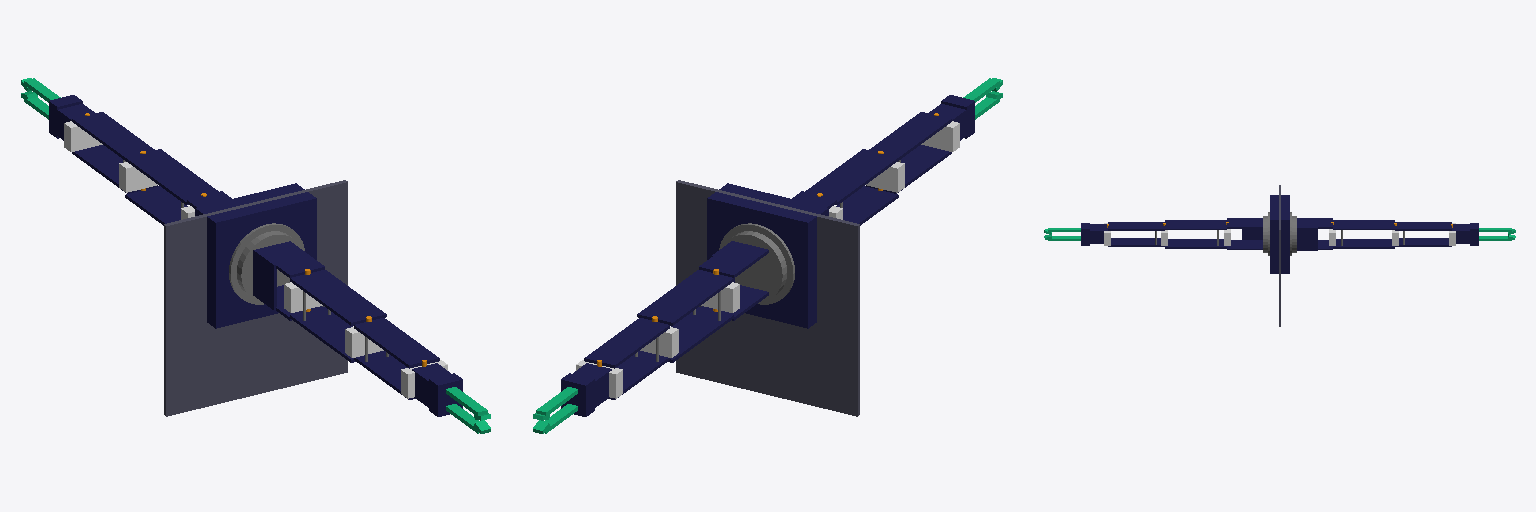
URDF robot description (adeept_5dof_wall):
<?xml version="1.0" ?>
<robot name="adeept_5dof_wall">

  <material name="darkblue"><color rgba="0.15 0.15 0.35 1.0"/></material>
  <material name="grey"><color rgba="0.5 0.5 0.5 1.0"/></material>
  <material name="orange"><color rgba="0.95 0.6 0.1 1.0"/></material>
  <material name="green"><color rgba="0.1 0.75 0.5 1.0"/></material>
  <material name="white"><color rgba="0.9 0.9 0.9 1.0"/></material>
  <material name="wall"><color rgba="0.35 0.35 0.42 1.0"/></material>

  <!-- WAND -->
  <link name="wall">
    <visual><geometry><box size="0.18 0.005 0.18"/></geometry>
      <origin xyz="0 0 0.10"/><material name="wall"/></visual>
  </link>

  <!-- ======== BASE ======== -->

  <link name="base_link_l">
    <visual><geometry><box size="0.100 0.100 0.015"/></geometry>
      <origin xyz="0 0 0.0075"/><material name="darkblue"/></visual>
    <visual><geometry><cylinder radius="0.037" length="0.003"/></geometry>
      <origin xyz="0 0 0.0165"/><material name="grey"/></visual>
    <collision><geometry><box size="0.100 0.100 0.018"/></geometry><origin xyz="0 0 0.009"/></collision>
    <inertial><mass value="0.3"/><origin xyz="0 0 0.009"/>
      <inertia ixx="0.001" ixy="0" ixz="0" iyy="0.001" iyz="0" izz="0.001"/></inertial>
  </link>
  <joint name="base_to_wall_l" type="fixed">
    <parent link="wall"/><child link="base_link_l"/>
    <origin xyz="0 0.0025 0.14" rpy="-1.5708 1.5708 0"/>
  </joint>

  <link name="base_link_r">
    <visual><geometry><box size="0.100 0.100 0.015"/></geometry>
      <origin xyz="0 0 0.0075"/><material name="darkblue"/></visual>
    <visual><geometry><cylinder radius="0.037" length="0.003"/></geometry>
      <origin xyz="0 0 0.0165"/><material name="grey"/></visual>
    <collision><geometry><box size="0.100 0.100 0.018"/></geometry><origin xyz="0 0 0.009"/></collision>
    <inertial><mass value="0.3"/><origin xyz="0 0 0.009"/>
      <inertia ixx="0.001" ixy="0" ixz="0" iyy="0.001" iyz="0" izz="0.001"/></inertial>
  </link>
  <joint name="base_to_wall_r" type="fixed">
    <parent link="wall"/><child link="base_link_r"/>
    <origin xyz="0 -0.0025 0.14" rpy="1.5708 1.5708 0"/>
  </joint>

  <!-- ======== BASE JOINT (turntable) ======== -->

  <link name="turntable_l">
    <visual><geometry><cylinder radius="0.031" length="0.008"/></geometry>
      <origin xyz="0 0 0.004"/><material name="grey"/></visual>
    <collision><geometry><cylinder radius="0.032" length="0.008"/></geometry><origin xyz="0 0 0.004"/></collision>
    <inertial><mass value="0.05"/><origin xyz="0 0 0.004"/>
      <inertia ixx="0.0001" ixy="0" ixz="0" iyy="0.0001" iyz="0" izz="0.0001"/></inertial>
  </link>
  <joint name="base_joint_l" type="revolute">
    <parent link="base_link_l"/><child link="turntable_l"/>
    <origin xyz="0 0 0.018"/><axis xyz="0 0 1"/>
    <limit lower="-1.5708" upper="1.5708" effort="10" velocity="1.0"/>
  </joint>

  <link name="turntable_r">
    <visual><geometry><cylinder radius="0.031" length="0.008"/></geometry>
      <origin xyz="0 0 0.004"/><material name="grey"/></visual>
    <collision><geometry><cylinder radius="0.032" length="0.008"/></geometry><origin xyz="0 0 0.004"/></collision>
    <inertial><mass value="0.05"/><origin xyz="0 0 0.004"/>
      <inertia ixx="0.0001" ixy="0" ixz="0" iyy="0.0001" iyz="0" izz="0.0001"/></inertial>
  </link>
  <joint name="base_joint_r" type="revolute">
    <parent link="base_link_r"/><child link="turntable_r"/>
    <origin xyz="0 0 0.018"/><axis xyz="0 0 -1"/>
    <limit lower="-1.5708" upper="1.5708" effort="10" velocity="1.0"/>
  </joint>

  <!-- ======== SHOULDER BRACKET (fixed) ======== -->

  <link name="shoulder_bracket_l">
    <visual><geometry><box size="0.003 0.035 0.060"/></geometry>
      <origin xyz="-0.020 0 0.030"/><material name="darkblue"/></visual>
    <visual><geometry><box size="0.003 0.035 0.060"/></geometry>
      <origin xyz="0.020 0 0.030"/><material name="darkblue"/></visual>
    <visual><geometry><box size="0.043 0.003 0.036"/></geometry>
      <origin xyz="0 -0.0175 0.018"/><material name="darkblue"/></visual>
    <visual><geometry><box size="0.023 0.040 0.012"/></geometry>
      <origin xyz="0 0 0.060"/><material name="white"/></visual>
    <visual><geometry><cylinder radius="0.0025" length="0.045"/></geometry>
      <origin xyz="0 0 0.060" rpy="0 1.5708 0"/><material name="orange"/></visual>
    <collision><geometry><box size="0.045 0.040 0.072"/></geometry><origin xyz="0 0 0.036"/></collision>
    <inertial><mass value="0.12"/><origin xyz="0 0 0.036"/>
      <inertia ixx="0.0002" ixy="0" ixz="0" iyy="0.0002" iyz="0" izz="0.0002"/></inertial>
  </link>
  <joint name="shoulder_bracket_joint_l" type="fixed">
    <parent link="turntable_l"/><child link="shoulder_bracket_l"/>
    <origin xyz="0 0 0.008"/>
  </joint>

  <link name="shoulder_bracket_r">
    <visual><geometry><box size="0.003 0.035 0.060"/></geometry>
      <origin xyz="-0.020 0 0.030"/><material name="darkblue"/></visual>
    <visual><geometry><box size="0.003 0.035 0.060"/></geometry>
      <origin xyz="0.020 0 0.030"/><material name="darkblue"/></visual>
    <visual><geometry><box size="0.043 0.003 0.036"/></geometry>
      <origin xyz="0 -0.0175 0.018"/><material name="darkblue"/></visual>
    <visual><geometry><box size="0.023 0.040 0.012"/></geometry>
      <origin xyz="0 0 0.060"/><material name="white"/></visual>
    <visual><geometry><cylinder radius="0.0025" length="0.045"/></geometry>
      <origin xyz="0 0 0.060" rpy="0 1.5708 0"/><material name="orange"/></visual>
    <collision><geometry><box size="0.045 0.040 0.072"/></geometry><origin xyz="0 0 0.036"/></collision>
    <inertial><mass value="0.12"/><origin xyz="0 0 0.036"/>
      <inertia ixx="0.0002" ixy="0" ixz="0" iyy="0.0002" iyz="0" izz="0.0002"/></inertial>
  </link>
  <joint name="shoulder_bracket_joint_r" type="fixed">
    <parent link="turntable_r"/><child link="shoulder_bracket_r"/>
    <origin xyz="0 0 0.008"/>
  </joint>

  <!-- ======== SHOULDER JOINT (upper arm) ======== -->

  <link name="upper_arm_l">
    <visual><geometry><box size="0.003 0.035 0.105"/></geometry>
      <origin xyz="-0.0175 0 0.0525"/><material name="darkblue"/></visual>
    <visual><geometry><box size="0.003 0.035 0.105"/></geometry>
      <origin xyz="0.0175 0 0.0525"/><material name="darkblue"/></visual>
    <visual><geometry><cylinder radius="0.0015" length="0.032"/></geometry>
      <origin xyz="0 0.01225 0.016" rpy="0 1.5708 0"/><material name="grey"/></visual>
    <visual><geometry><cylinder radius="0.0015" length="0.032"/></geometry>
      <origin xyz="0 -0.01225 0.016" rpy="0 1.5708 0"/><material name="grey"/></visual>
    <visual><geometry><box size="0.023 0.040 0.012"/></geometry>
      <origin xyz="0 0 0.105"/><material name="white"/></visual>
    <visual><geometry><cylinder radius="0.0025" length="0.040"/></geometry>
      <origin xyz="0 0 0.105" rpy="0 1.5708 0"/><material name="orange"/></visual>
    <collision><geometry><box size="0.038 0.040 0.118"/></geometry><origin xyz="0 0 0.059"/></collision>
    <inertial><mass value="0.12"/><origin xyz="0 0 0.059"/>
      <inertia ixx="0.0003" ixy="0" ixz="0" iyy="0.0003" iyz="0" izz="0.0001"/></inertial>
  </link>
  <joint name="shoulder_joint_l" type="revolute">
    <parent link="shoulder_bracket_l"/><child link="upper_arm_l"/>
    <origin xyz="0 0 0.060"/><axis xyz="1 0 0"/>
    <limit lower="-0.0873" upper="1.3963" effort="10" velocity="1.0"/>
  </joint>

  <link name="upper_arm_r">
    <visual><geometry><box size="0.003 0.035 0.105"/></geometry>
      <origin xyz="-0.0175 0 0.0525"/><material name="darkblue"/></visual>
    <visual><geometry><box size="0.003 0.035 0.105"/></geometry>
      <origin xyz="0.0175 0 0.0525"/><material name="darkblue"/></visual>
    <visual><geometry><cylinder radius="0.0015" length="0.032"/></geometry>
      <origin xyz="0 0.01225 0.016" rpy="0 1.5708 0"/><material name="grey"/></visual>
    <visual><geometry><cylinder radius="0.0015" length="0.032"/></geometry>
      <origin xyz="0 -0.01225 0.016" rpy="0 1.5708 0"/><material name="grey"/></visual>
    <visual><geometry><box size="0.023 0.040 0.012"/></geometry>
      <origin xyz="0 0 0.105"/><material name="white"/></visual>
    <visual><geometry><cylinder radius="0.0025" length="0.040"/></geometry>
      <origin xyz="0 0 0.105" rpy="0 1.5708 0"/><material name="orange"/></visual>
    <collision><geometry><box size="0.038 0.040 0.118"/></geometry><origin xyz="0 0 0.059"/></collision>
    <inertial><mass value="0.12"/><origin xyz="0 0 0.059"/>
      <inertia ixx="0.0003" ixy="0" ixz="0" iyy="0.0003" iyz="0" izz="0.0001"/></inertial>
  </link>
  <joint name="shoulder_joint_r" type="revolute">
    <parent link="shoulder_bracket_r"/><child link="upper_arm_r"/>
    <origin xyz="0 0 0.060"/><axis xyz="-1 0 0"/>
    <limit lower="-0.0873" upper="1.3963" effort="10" velocity="1.0"/>
  </joint>

  <!-- ======== ELBOW JOINT (forearm) ======== -->

  <link name="forearm_l">
    <visual><geometry><box size="0.003 0.030 0.095"/></geometry>
      <origin xyz="-0.015 0 0.0475"/><material name="darkblue"/></visual>
    <visual><geometry><box size="0.003 0.030 0.095"/></geometry>
      <origin xyz="0.015 0 0.0475"/><material name="darkblue"/></visual>
    <visual><geometry><cylinder radius="0.0015" length="0.027"/></geometry>
      <origin xyz="0 0.0105 0.014" rpy="0 1.5708 0"/><material name="grey"/></visual>
    <visual><geometry><cylinder radius="0.0015" length="0.027"/></geometry>
      <origin xyz="0 -0.0105 0.014" rpy="0 1.5708 0"/><material name="grey"/></visual>
    <visual><geometry><box size="0.023 0.040 0.012"/></geometry>
      <origin xyz="0 0 0.095"/><material name="white"/></visual>
    <visual><geometry><cylinder radius="0.002" length="0.035"/></geometry>
      <origin xyz="0 0 0.095" rpy="0 1.5708 0"/><material name="orange"/></visual>
    <collision><geometry><box size="0.033 0.035 0.108"/></geometry><origin xyz="0 0 0.054"/></collision>
    <inertial><mass value="0.10"/><origin xyz="0 0 0.054"/>
      <inertia ixx="0.0002" ixy="0" ixz="0" iyy="0.0002" iyz="0" izz="0.00008"/></inertial>
  </link>
  <joint name="elbow_joint_l" type="revolute">
    <parent link="upper_arm_l"/><child link="forearm_l"/>
    <origin xyz="0 0 0.105"/><axis xyz="1 0 0"/>
    <limit lower="-0.0873" upper="1.4835" effort="10" velocity="1.0"/>
  </joint>

  <link name="forearm_r">
    <visual><geometry><box size="0.003 0.030 0.095"/></geometry>
      <origin xyz="-0.015 0 0.0475"/><material name="darkblue"/></visual>
    <visual><geometry><box size="0.003 0.030 0.095"/></geometry>
      <origin xyz="0.015 0 0.0475"/><material name="darkblue"/></visual>
    <visual><geometry><cylinder radius="0.0015" length="0.027"/></geometry>
      <origin xyz="0 0.0105 0.014" rpy="0 1.5708 0"/><material name="grey"/></visual>
    <visual><geometry><cylinder radius="0.0015" length="0.027"/></geometry>
      <origin xyz="0 -0.0105 0.014" rpy="0 1.5708 0"/><material name="grey"/></visual>
    <visual><geometry><box size="0.023 0.040 0.012"/></geometry>
      <origin xyz="0 0 0.095"/><material name="white"/></visual>
    <visual><geometry><cylinder radius="0.002" length="0.035"/></geometry>
      <origin xyz="0 0 0.095" rpy="0 1.5708 0"/><material name="orange"/></visual>
    <collision><geometry><box size="0.033 0.035 0.108"/></geometry><origin xyz="0 0 0.054"/></collision>
    <inertial><mass value="0.10"/><origin xyz="0 0 0.054"/>
      <inertia ixx="0.0002" ixy="0" ixz="0" iyy="0.0002" iyz="0" izz="0.00008"/></inertial>
  </link>
  <joint name="elbow_joint_r" type="revolute">
    <parent link="upper_arm_r"/><child link="forearm_r"/>
    <origin xyz="0 0 0.105"/><axis xyz="-1 0 0"/>
    <limit lower="-0.0873" upper="1.4835" effort="10" velocity="1.0"/>
  </joint>

  <!-- ======== WRIST JOINT ======== -->

  <link name="wrist_l">
    <visual><geometry><box size="0.025 0.025 0.030"/></geometry>
      <origin xyz="0 0 0.015"/><material name="darkblue"/></visual>
    <visual><geometry><box size="0.030 0.025 0.015"/></geometry>
      <origin xyz="0 0 0.0375"/><material name="darkblue"/></visual>
    <collision><geometry><box size="0.030 0.025 0.045"/></geometry><origin xyz="0 0 0.0225"/></collision>
    <inertial><mass value="0.05"/><origin xyz="0 0 0.0225"/>
      <inertia ixx="0.00005" ixy="0" ixz="0" iyy="0.00005" iyz="0" izz="0.00005"/></inertial>
  </link>
  <joint name="wrist_joint_l" type="revolute">
    <parent link="forearm_l"/><child link="wrist_l"/>
    <origin xyz="0 0 0.095"/><axis xyz="0 0 1"/>
    <limit lower="-1.5708" upper="1.5708" effort="5" velocity="1.0"/>
  </joint>

  <link name="wrist_r">
    <visual><geometry><box size="0.025 0.025 0.030"/></geometry>
      <origin xyz="0 0 0.015"/><material name="darkblue"/></visual>
    <visual><geometry><box size="0.030 0.025 0.015"/></geometry>
      <origin xyz="0 0 0.0375"/><material name="darkblue"/></visual>
    <collision><geometry><box size="0.030 0.025 0.045"/></geometry><origin xyz="0 0 0.0225"/></collision>
    <inertial><mass value="0.05"/><origin xyz="0 0 0.0225"/>
      <inertia ixx="0.00005" ixy="0" ixz="0" iyy="0.00005" iyz="0" izz="0.00005"/></inertial>
  </link>
  <joint name="wrist_joint_r" type="revolute">
    <parent link="forearm_r"/><child link="wrist_r"/>
    <origin xyz="0 0 0.095"/><axis xyz="0 0 -1"/>
    <limit lower="-1.5708" upper="1.5708" effort="5" velocity="1.0"/>
  </joint>

  <!-- ======== GRIPPER JOINT ======== -->

  <link name="gripper_base_l">
    <inertial><mass value="0.005"/>
      <inertia ixx="0.000001" ixy="0" ixz="0" iyy="0.000001" iyz="0" izz="0.000001"/></inertial>
  </link>
  <joint name="gripper_base_joint_l" type="fixed">
    <parent link="wrist_l"/><child link="gripper_base_l"/>
    <origin xyz="0 0 0.045"/>
  </joint>

  <link name="gripper_left_l">
    <visual><geometry><box size="0.004 0.010 0.055"/></geometry>
      <origin xyz="0 0 0.0275"/><material name="green"/></visual>
    <visual><geometry><box size="0.004 0.010 0.012"/></geometry>
      <origin xyz="0.003 0 0.055" rpy="0 -0.3 0"/><material name="green"/></visual>
    <collision><geometry><box size="0.010 0.012 0.062"/></geometry><origin xyz="0.002 0 0.031"/></collision>
    <inertial><mass value="0.01"/><origin xyz="0 0 0.030"/>
      <inertia ixx="0.000005" ixy="0" ixz="0" iyy="0.000005" iyz="0" izz="0.000002"/></inertial>
  </link>
  <joint name="gripper_joint_l" type="revolute">
    <parent link="gripper_base_l"/><child link="gripper_left_l"/>
    <origin xyz="-0.008 0 0"/><axis xyz="0 -1 0"/>
    <limit lower="0" upper="0.5" effort="2" velocity="1.0"/>
  </joint>

  <link name="gripper_base_r">
    <inertial><mass value="0.005"/>
      <inertia ixx="0.000001" ixy="0" ixz="0" iyy="0.000001" iyz="0" izz="0.000001"/></inertial>
  </link>
  <joint name="gripper_base_joint_r" type="fixed">
    <parent link="wrist_r"/><child link="gripper_base_r"/>
    <origin xyz="0 0 0.045"/>
  </joint>

  <link name="gripper_left_r">
    <visual><geometry><box size="0.004 0.010 0.055"/></geometry>
      <origin xyz="0 0 0.0275"/><material name="green"/></visual>
    <visual><geometry><box size="0.004 0.010 0.012"/></geometry>
      <origin xyz="0.003 0 0.055" rpy="0 -0.3 0"/><material name="green"/></visual>
    <collision><geometry><box size="0.010 0.012 0.062"/></geometry><origin xyz="0.002 0 0.031"/></collision>
    <inertial><mass value="0.01"/><origin xyz="0 0 0.030"/>
      <inertia ixx="0.000005" ixy="0" ixz="0" iyy="0.000005" iyz="0" izz="0.000002"/></inertial>
  </link>
  <joint name="gripper_joint_r" type="revolute">
    <parent link="gripper_base_r"/><child link="gripper_left_r"/>
    <origin xyz="-0.008 0 0"/><axis xyz="0 -1 0"/>
    <limit lower="0" upper="0.5" effort="2" velocity="1.0"/>
  </joint>

  <!-- ======== GRIPPER RIGHT (mimic, fixed) ======== -->

  <link name="gripper_right_l">
    <visual><geometry><box size="0.004 0.010 0.055"/></geometry>
      <origin xyz="0 0 0.0275"/><material name="green"/></visual>
    <visual><geometry><box size="0.004 0.010 0.012"/></geometry>
      <origin xyz="-0.003 0 0.055" rpy="0 0.3 0"/><material name="green"/></visual>
    <collision><geometry><box size="0.010 0.012 0.062"/></geometry><origin xyz="-0.002 0 0.031"/></collision>
    <inertial><mass value="0.01"/><origin xyz="0 0 0.030"/>
      <inertia ixx="0.000005" ixy="0" ixz="0" iyy="0.000005" iyz="0" izz="0.000002"/></inertial>
  </link>
  <joint name="gripper_right_joint_l" type="revolute">
    <parent link="gripper_base_l"/><child link="gripper_right_l"/>
    <origin xyz="0.008 0 0"/><axis xyz="0 1 0"/>
    <limit lower="0" upper="0.5" effort="2" velocity="1.0"/>
    <mimic joint="gripper_joint_l" multiplier="1.0" offset="0"/>
  </joint>

  <link name="gripper_right_r">
    <visual><geometry><box size="0.004 0.010 0.055"/></geometry>
      <origin xyz="0 0 0.0275"/><material name="green"/></visual>
    <visual><geometry><box size="0.004 0.010 0.012"/></geometry>
      <origin xyz="-0.003 0 0.055" rpy="0 0.3 0"/><material name="green"/></visual>
    <collision><geometry><box size="0.010 0.012 0.062"/></geometry><origin xyz="-0.002 0 0.031"/></collision>
    <inertial><mass value="0.01"/><origin xyz="0 0 0.030"/>
      <inertia ixx="0.000005" ixy="0" ixz="0" iyy="0.000005" iyz="0" izz="0.000002"/></inertial>
  </link>
  <joint name="gripper_right_joint_r" type="revolute">
    <parent link="gripper_base_r"/><child link="gripper_right_r"/>
    <origin xyz="0.008 0 0"/><axis xyz="0 1 0"/>
    <limit lower="0" upper="0.5" effort="2" velocity="1.0"/>
    <mimic joint="gripper_joint_r" multiplier="1.0" offset="0"/>
  </joint>

</robot>

--- Render facts (derived) ---
3 views of the same robot in one strip: view 1: azimuth 30°, elevation 25°; view 2: azimuth 150°, elevation 25°; view 3: azimuth 270°, elevation 25° (orthographic).
Robot: adeept_5dof_wall — 19 links, 18 joints (12 revolute, 6 fixed); root link wall; default pose: every joint at zero.
Links seen in each view (by area): view 1: wall, base_link_r, upper_arm_r, upper_arm_l, forearm_r, forearm_l, shoulder_bracket_r, wrist_r, turntable_r, wrist_l, base_link_l, gripper_left_r (+2 smaller); view 2: wall, base_link_l, upper_arm_l, upper_arm_r, forearm_l, forearm_r, shoulder_bracket_l, turntable_l, wrist_l, wrist_r, base_link_r, gripper_left_l (+2 smaller); view 3: upper_arm_l, upper_arm_r, shoulder_bracket_l, forearm_l, forearm_r, shoulder_bracket_r, base_link_l, base_link_r.
Boxes of the visible links, box(x1,y1,x2,y2) form: wall: box(164, 180, 347, 416); base_link_r: box(207, 192, 316, 328); upper_arm_r: box(290, 270, 386, 362); upper_arm_l: box(119, 149, 218, 225); forearm_r: box(354, 318, 447, 399); forearm_l: box(64, 112, 157, 193); shoulder_bracket_r: box(253, 241, 324, 320); wrist_r: box(412, 363, 462, 416); turntable_r: box(237, 231, 301, 300); wrist_l: box(49, 95, 94, 140); base_link_l: box(195, 183, 304, 215); gripper_left_r: box(446, 387, 490, 420); wall: box(676, 180, 859, 416); base_link_l: box(707, 192, 816, 328); upper_arm_l: box(637, 270, 733, 362); upper_arm_r: box(805, 149, 904, 225); forearm_l: box(576, 318, 669, 399); forearm_r: box(866, 112, 959, 193); shoulder_bracket_l: box(699, 241, 768, 320); turntable_l: box(724, 231, 786, 301); wrist_l: box(561, 363, 611, 416); wrist_r: box(929, 95, 974, 140); base_link_r: box(719, 183, 828, 215); gripper_left_l: box(533, 387, 577, 420); upper_arm_l: box(1333, 220, 1398, 248); upper_arm_r: box(1161, 220, 1226, 248); shoulder_bracket_l: box(1297, 218, 1335, 250); forearm_l: box(1395, 222, 1455, 246); forearm_r: box(1104, 222, 1164, 246); shoulder_bracket_r: box(1224, 218, 1262, 249); base_link_l: box(1281, 195, 1291, 273); base_link_r: box(1268, 195, 1278, 273).
Bounding box of the posed robot: 0.18 × 0.7896 × 0.18 m (x, y, z).
Geometry: primitives only (box / cylinder / sphere), no mesh files.
